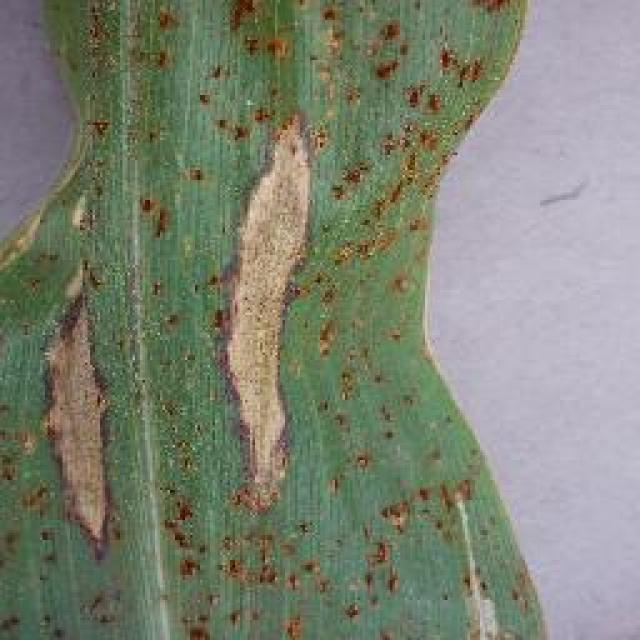Corn___Northern_Leaf_Blight: (0, 5, 615, 640)
